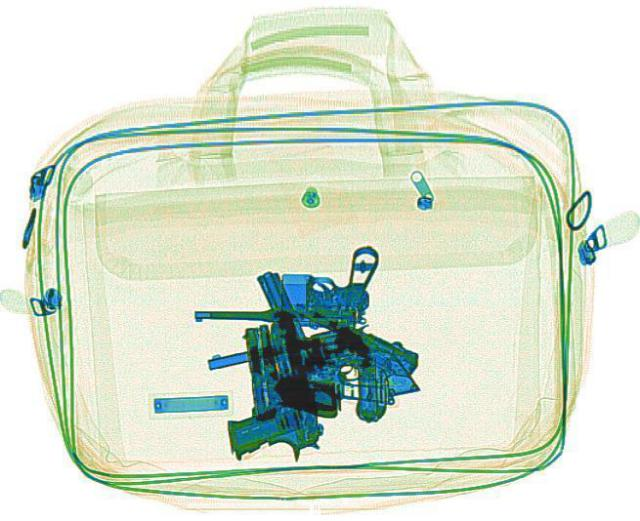Gun: (202, 313, 424, 412), (206, 316, 326, 464), (192, 246, 378, 321), (262, 307, 338, 421)
